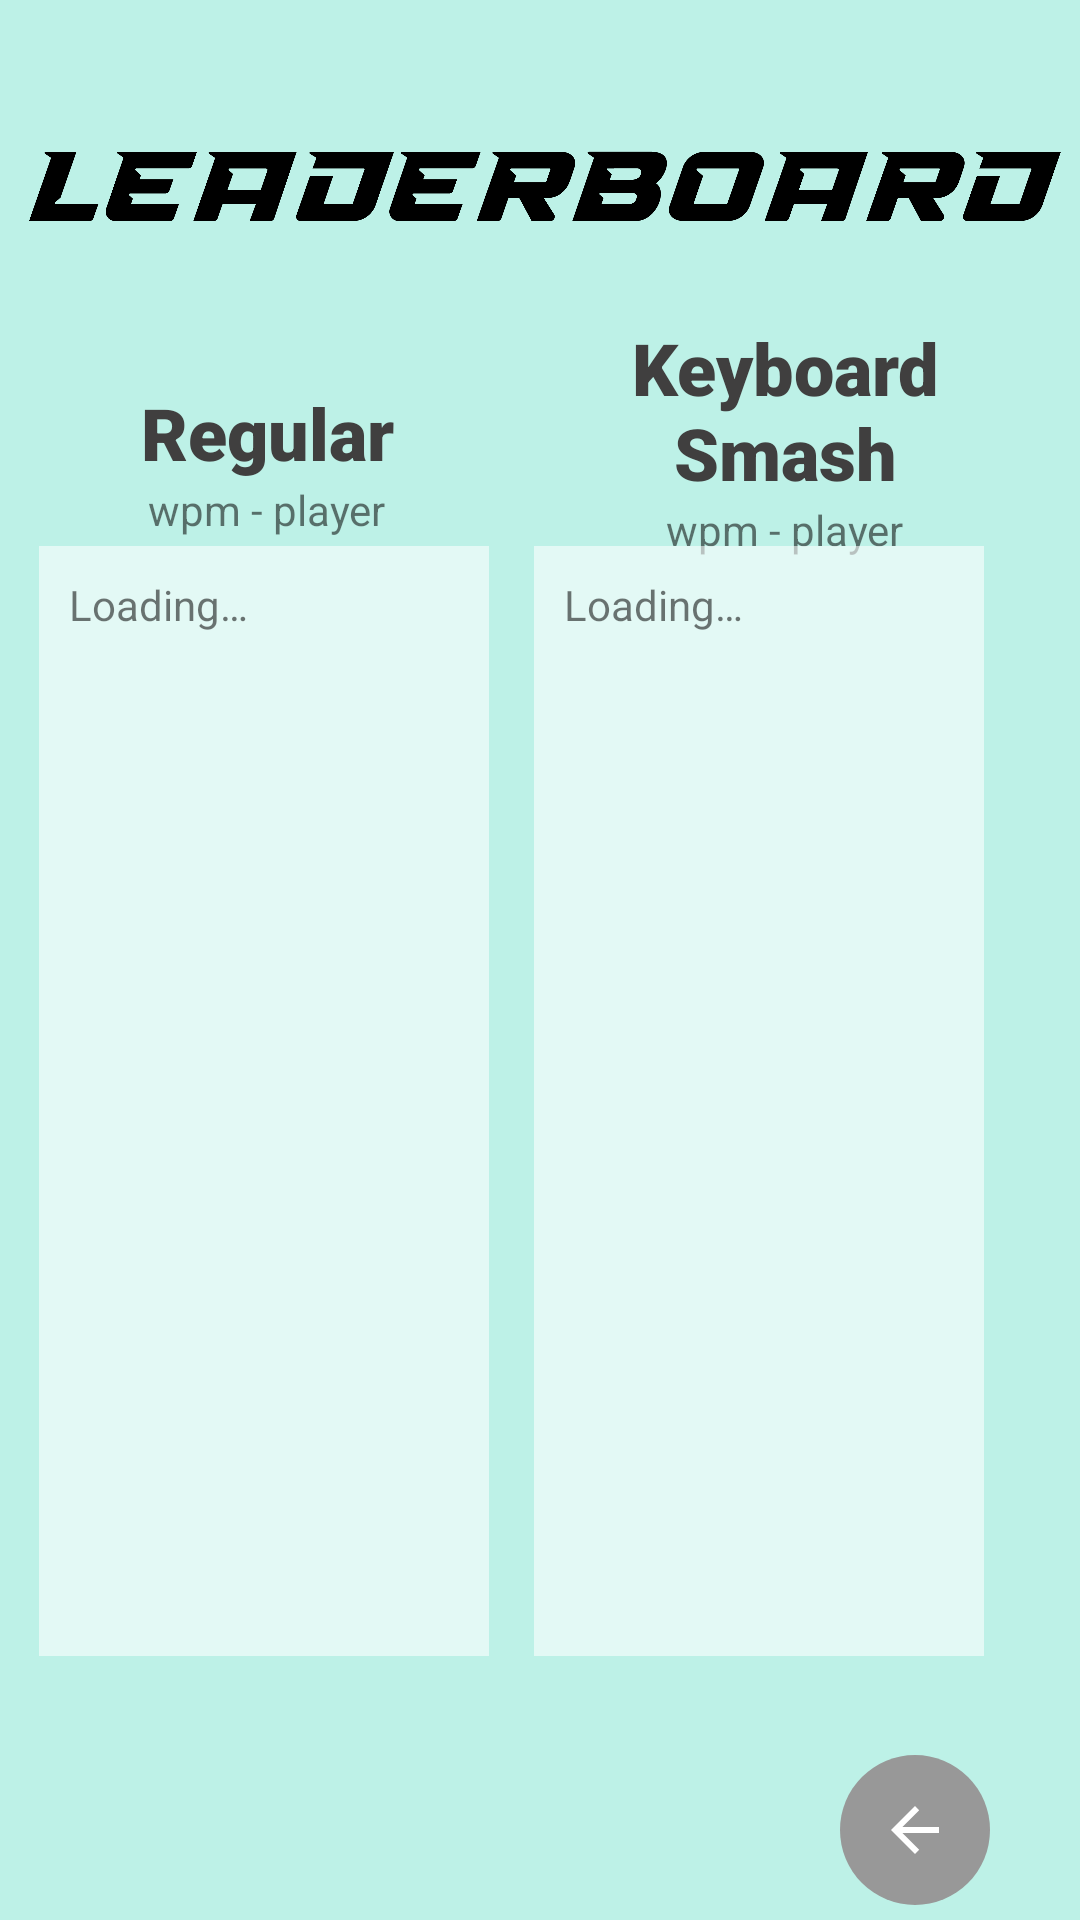

Named icons in this screenshot (1080px x 1920px) and their centers, (x,y):
back: (915,1830)
